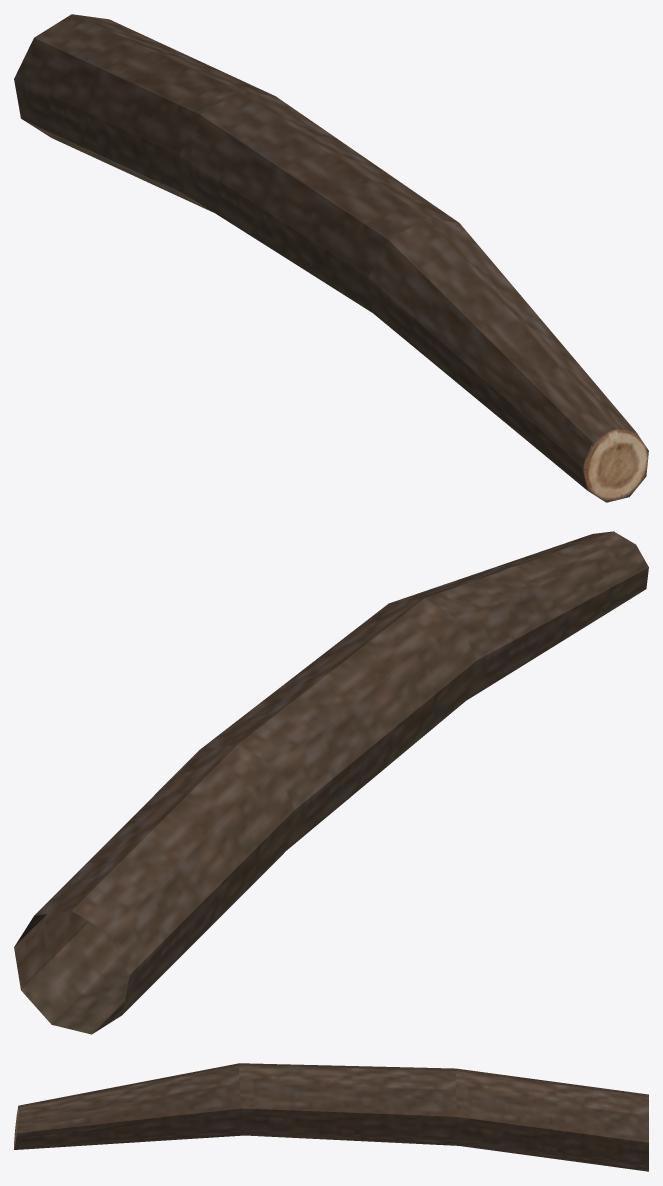
Rendered from sdwsk-timberman-branch4.fbx.
3 views of the same model, one above another, from view 1: azimuth 30°, elevation 25°; view 2: azimuth 150°, elevation 25°; view 3: azimuth 270°, elevation 25° (orthographic). The views are drawn at different scales.
Visible parts, largest first — view 1: sdwsk-timberman-branch4; view 2: sdwsk-timberman-branch4; view 3: sdwsk-timberman-branch4.
Boxes of the visible parts, x1=… form: sdwsk-timberman-branch4: x1=14, y1=14, x2=648, y2=502; sdwsk-timberman-branch4: x1=14, y1=531, x2=648, y2=1034; sdwsk-timberman-branch4: x1=14, y1=1063, x2=648, y2=1171.
Bounding box in the file's own units: 26.2 × 37.41 × 214.
1 material, 1 textured.
